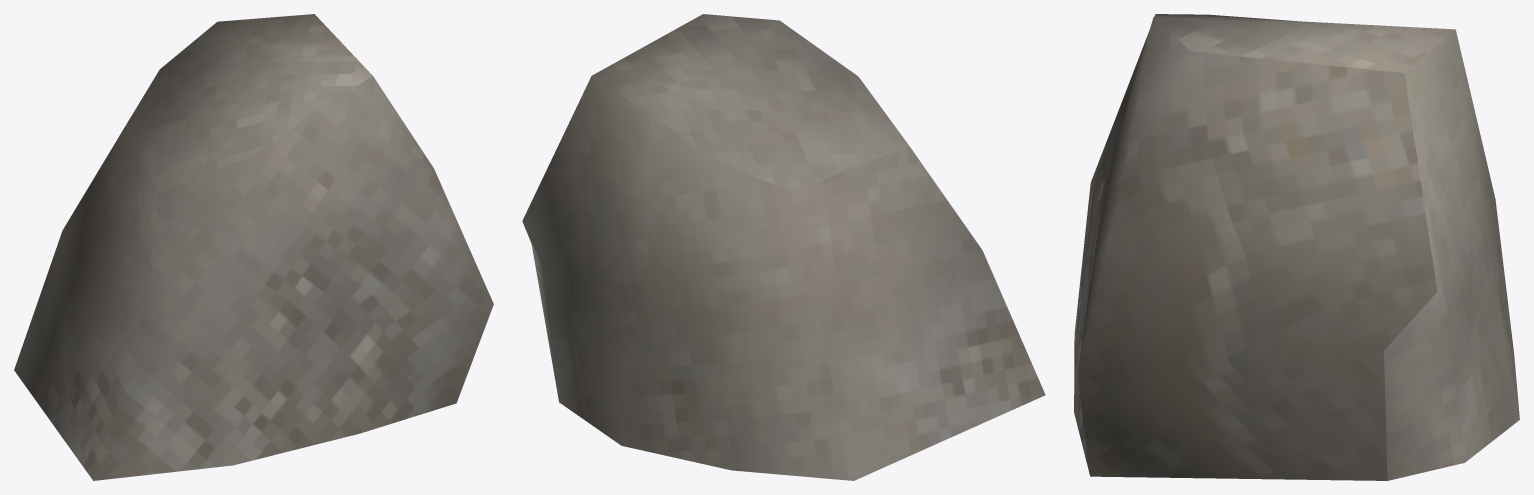
Rendered from rock_1.fbx.
3 renders of one model, left to right at view 1: azimuth 30°, elevation 25°; view 2: azimuth 150°, elevation 25°; view 3: azimuth 270°, elevation 25°, orthographic. The views are drawn at different scales.
Visible parts, largest first — view 1: rock_1; view 2: rock_1; view 3: rock_1.
Boxes of the visible parts, x1,y1,x2,y2 form: rock_1: [14, 14, 493, 480]; rock_1: [522, 14, 1045, 480]; rock_1: [1074, 14, 1519, 480].
Bounding box in the file's own units: 100 × 76.16 × 75.49.
